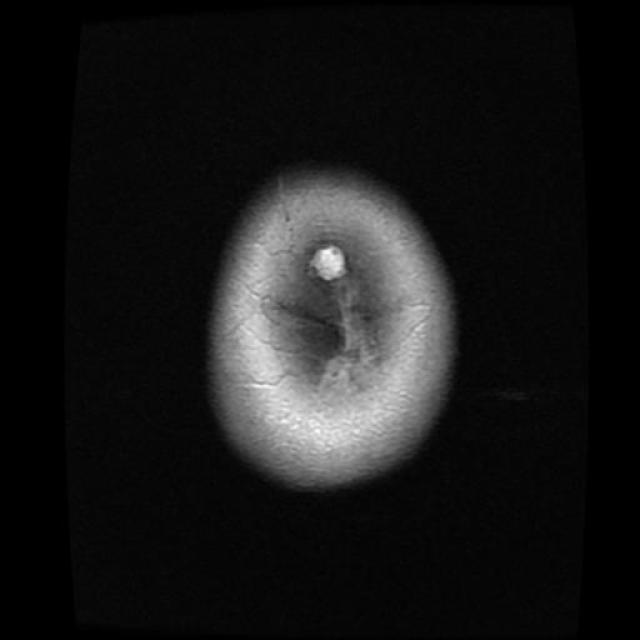meningioma: (309, 246, 346, 281)
